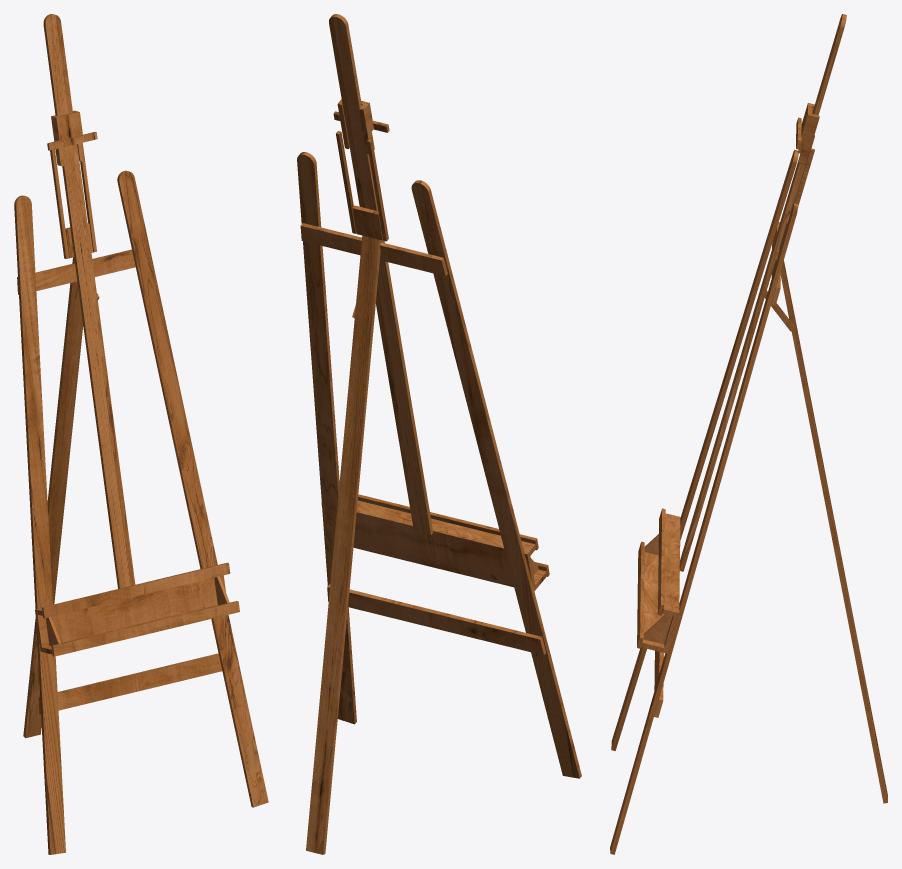
Rendered from Easel 2.FBX.
3 renders of one model, left to right at view 1: azimuth 30°, elevation 25°; view 2: azimuth 150°, elevation 25°; view 3: azimuth 270°, elevation 25°, orthographic. The views are drawn at different scales.
Visible parts, largest first — view 1: Easel 2; view 2: Easel 2; view 3: Easel 2.
Boxes of the visible parts, left/top/right/bottom form: Easel 2: left=14, top=14, right=268, bottom=854; Easel 2: left=297, top=14, right=581, bottom=854; Easel 2: left=610, top=14, right=887, bottom=854.
Size of the model in its own units: 26.05 by 27.02 by 84.27.
1 material, 1 textured.
